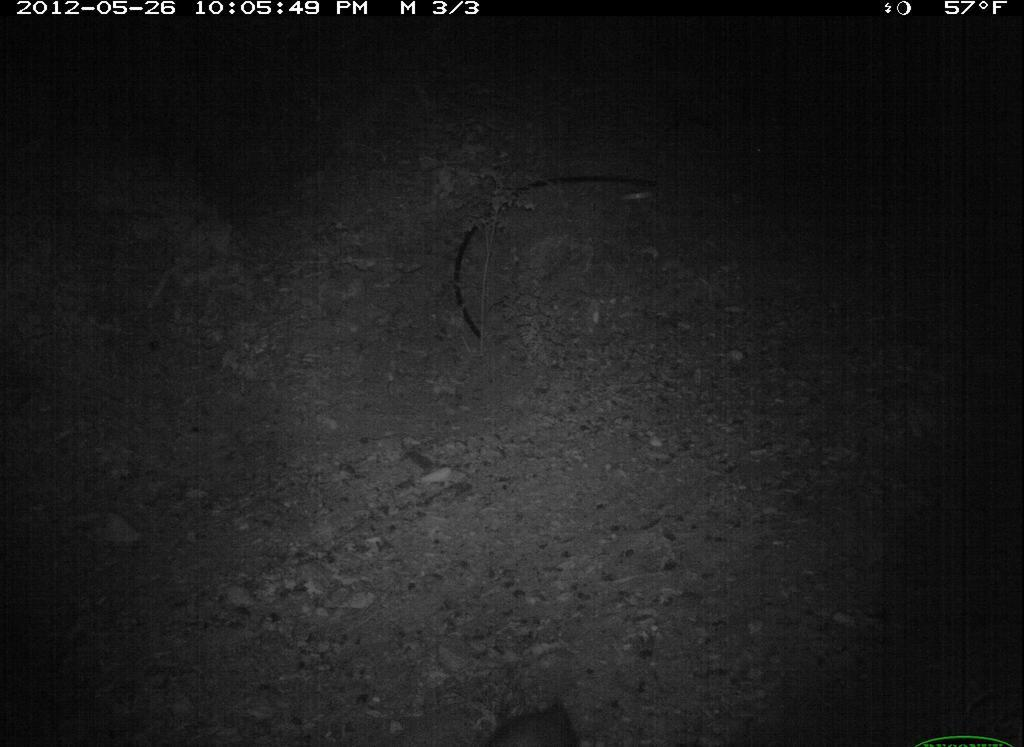opossum: (455, 684, 585, 747)
